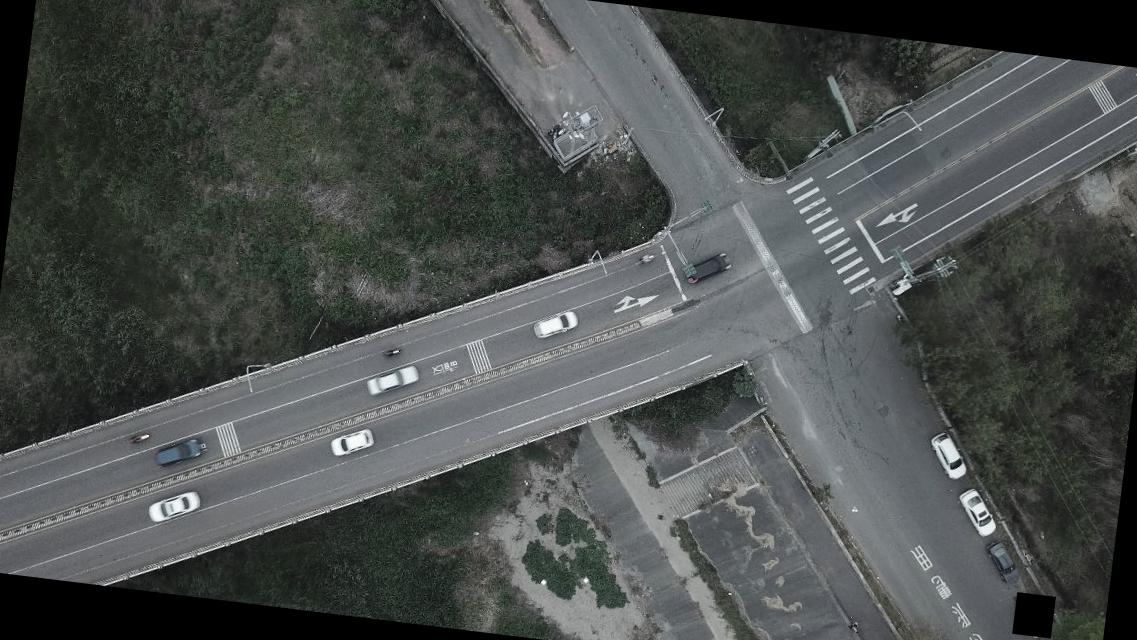vehicle: (952, 486, 1002, 539), (146, 484, 201, 528), (927, 430, 973, 481), (152, 432, 206, 474), (364, 360, 420, 398), (982, 539, 1024, 585), (531, 307, 579, 344), (327, 425, 375, 461), (684, 251, 730, 287)
